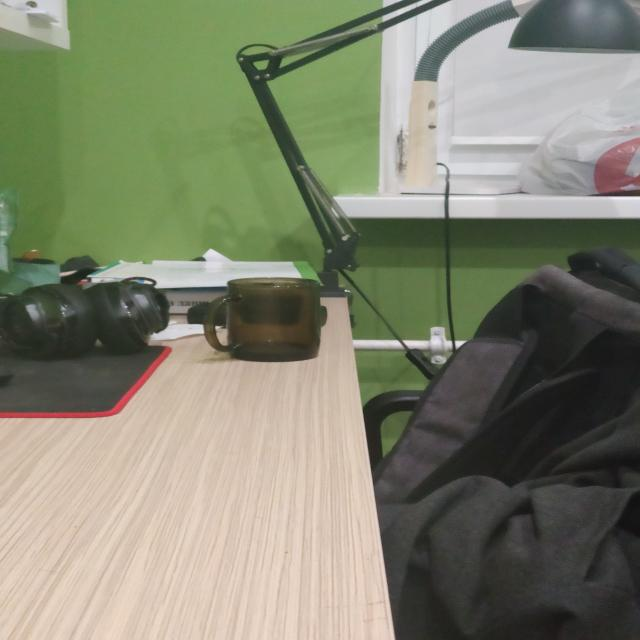cups: (203, 278, 326, 362)
